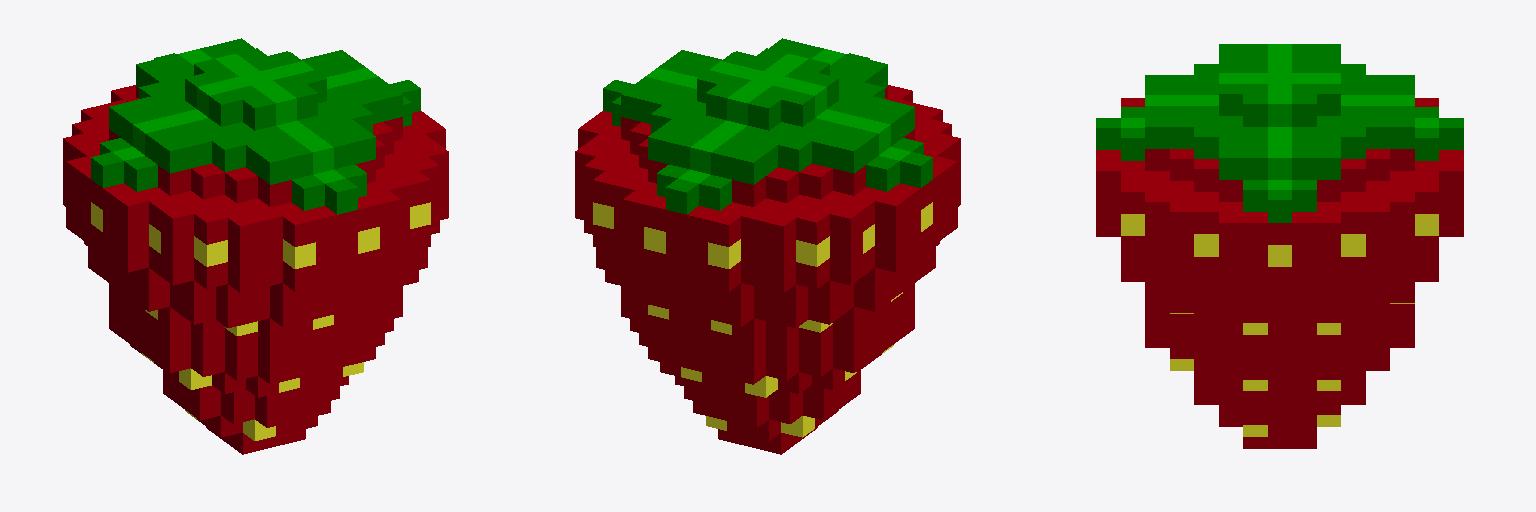
3 views of the same model, side by side, from view 1: azimuth 30°, elevation 25°; view 2: azimuth 150°, elevation 25°; view 3: azimuth 270°, elevation 25° (orthographic).
Parts seen in each view (by area): view 1: object 1; view 2: object 1; view 3: object 1.
Part boxes in pixels (left/top/right/bottom): object 1: left=63, top=38, right=448, bottom=454; object 1: left=575, top=38, right=960, bottom=454; object 1: left=1096, top=44, right=1463, bottom=448.
Bounding box in the file's own units: 1.5 × 1.6 × 1.5.
Materials: 1 (1 with a texture image).